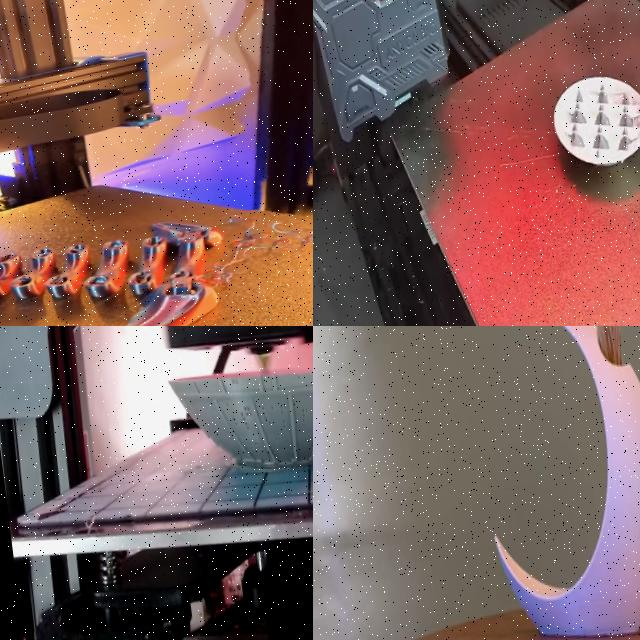spaghetti: (217, 196, 313, 302)
